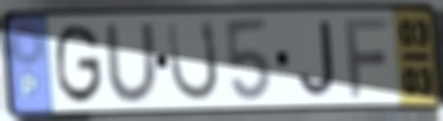5: (222, 16, 274, 104)
F: (341, 15, 393, 100)
G: (53, 21, 105, 107)
J: (297, 18, 339, 99)
U: (101, 19, 162, 105), (165, 18, 222, 105)
